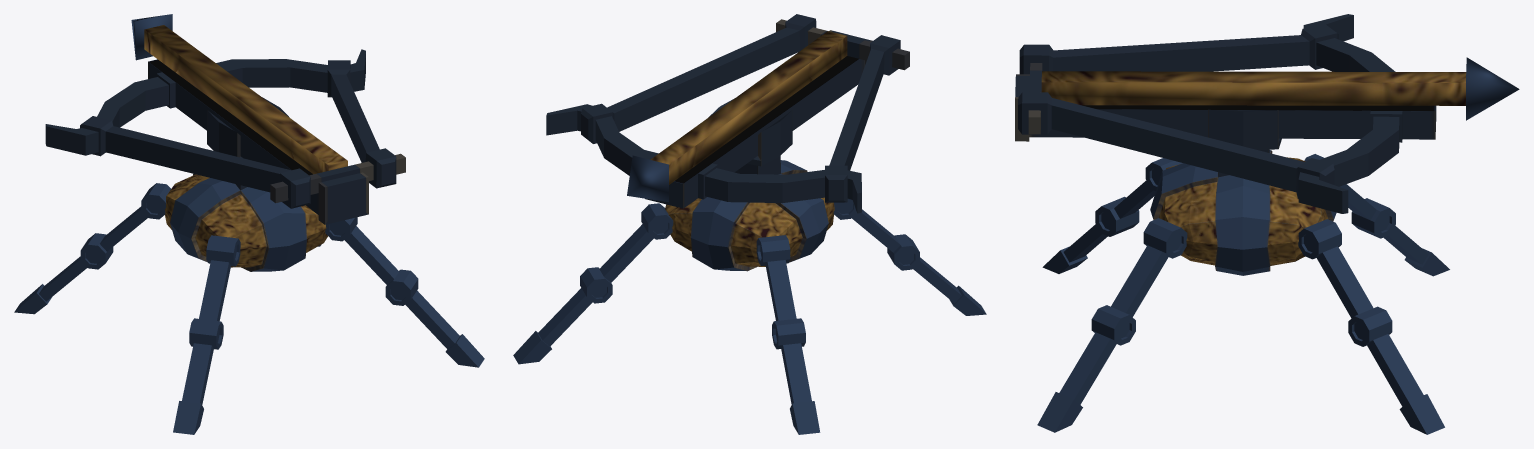
The model's file is BALLESTA.fbx.
3 renders of one model, left to right at view 1: azimuth 30°, elevation 25°; view 2: azimuth 150°, elevation 25°; view 3: azimuth 270°, elevation 25°, orthographic. The views are drawn at different scales.
Visible parts, largest first — view 1: Patas; view 2: Patas; view 3: Patas.
Boxes of the visible parts, x1,y1,x2,y2 form: Patas: [14, 14, 484, 434]; Patas: [513, 14, 986, 434]; Patas: [1015, 14, 1519, 434].
Bounding box in the file's own units: 1341 × 992 × 1614.
